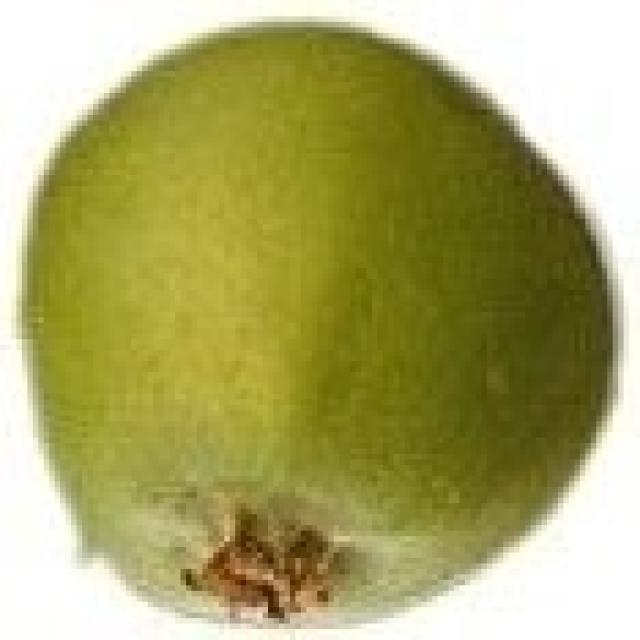50-_ripeness: (32, 22, 618, 630)
